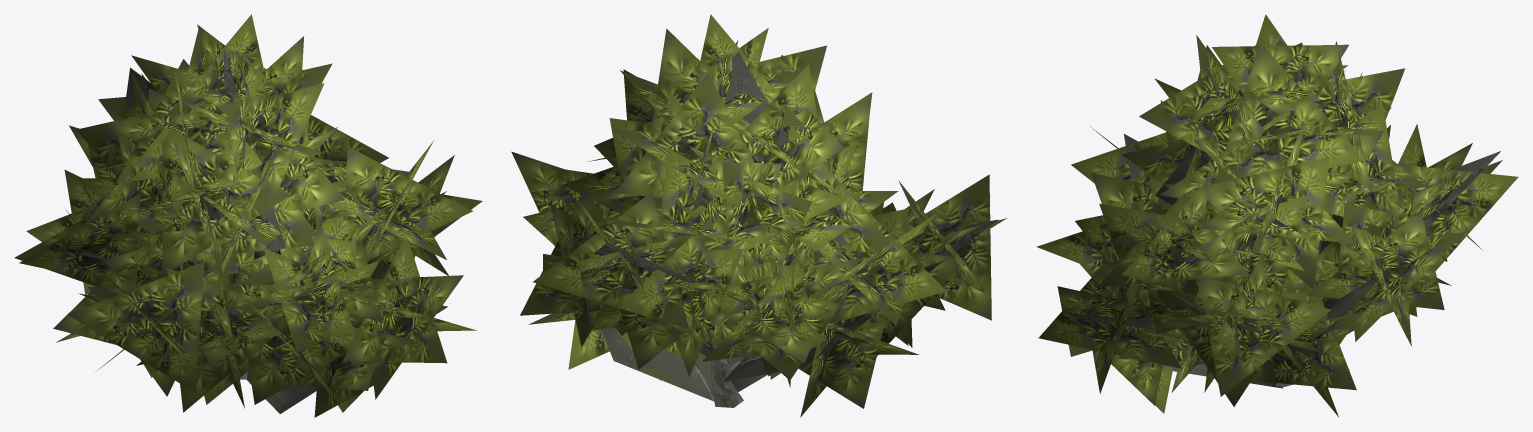
Rendered from BushMed04.FBX.
3 renders of one model, left to right at view 1: azimuth 30°, elevation 25°; view 2: azimuth 150°, elevation 25°; view 3: azimuth 270°, elevation 25°, orthographic. The views are drawn at different scales.
Visible parts, largest first — view 1: Bush_LOD0; view 2: Bush_LOD0; view 3: Bush_LOD0.
Boxes of the visible parts, box(x1,y1,x2,y2) form: Bush_LOD0: box(14, 14, 482, 417); Bush_LOD0: box(511, 14, 1006, 417); Bush_LOD0: box(1036, 14, 1518, 416).
Size of what is drawn, in the model's own units: 378 by 310 by 364.
